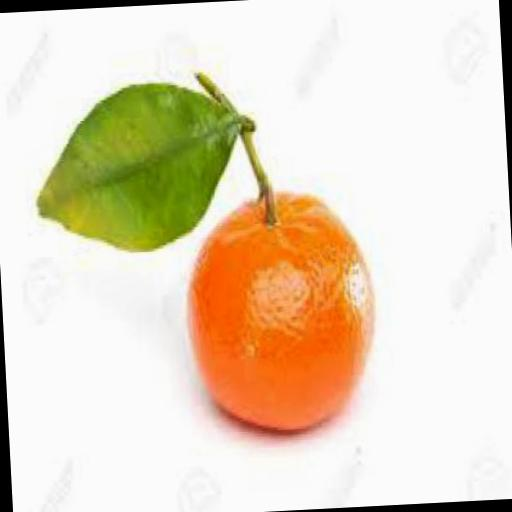biodegradable: (180, 181, 382, 441), (28, 70, 250, 258)
